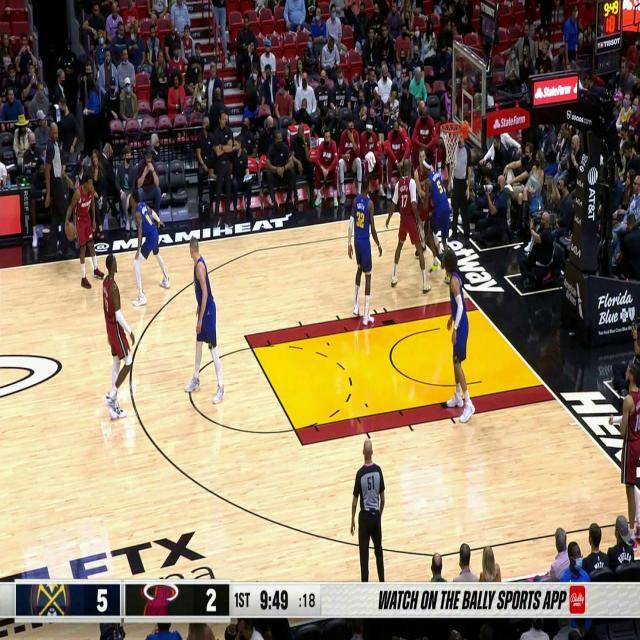rim: (65, 221, 75, 241)
